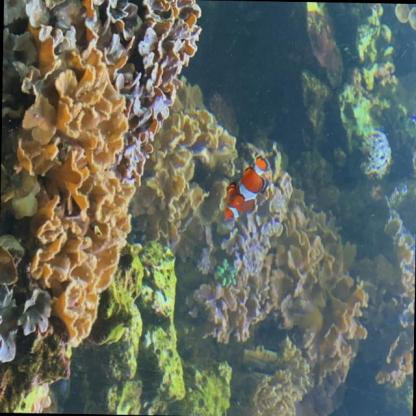fish: (223, 153, 270, 222)
